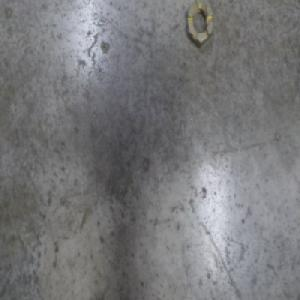Nut: (187, 0, 215, 48)
